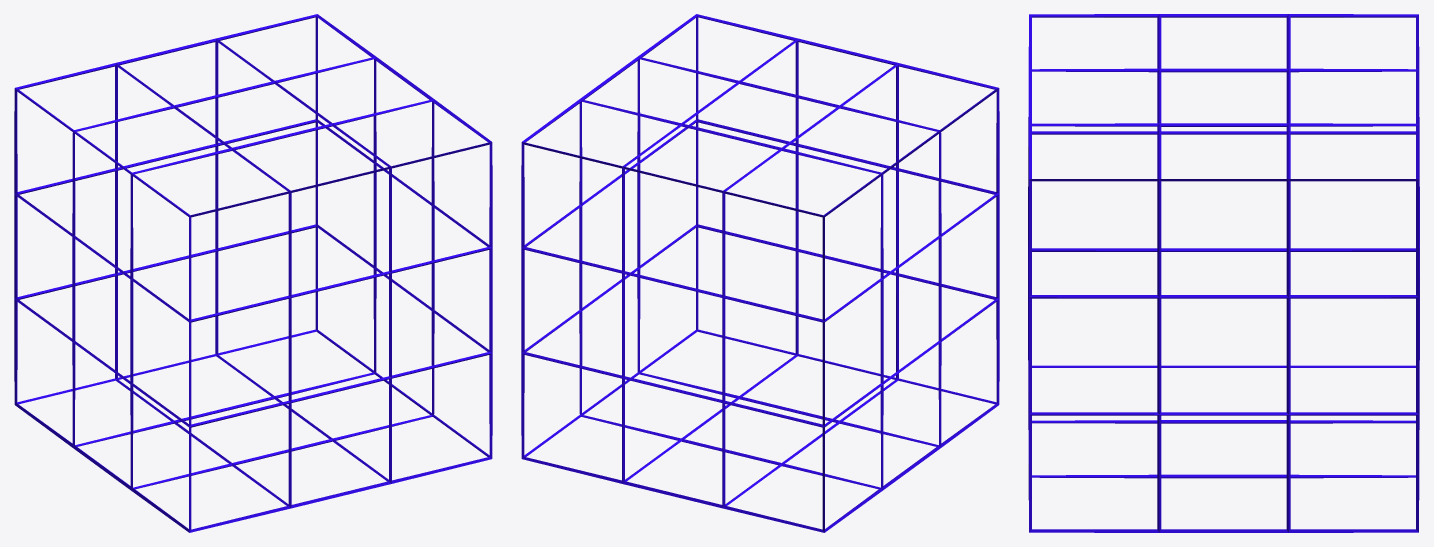
File: cube-wireframe.glb
The picture shows the model from 3 angles, left to right: view 1: azimuth 30°, elevation 25°; view 2: azimuth 150°, elevation 25°; view 3: azimuth 270°, elevation 25°; orthographic projection. The views are drawn at different scales.
Visible parts, largest first — view 1: Cube Wireframe; view 2: Cube Wireframe; view 3: Cube Wireframe.
Part boxes in pixels (bbox=[...]): Cube Wireframe: bbox=[14, 14, 492, 532]; Cube Wireframe: bbox=[521, 14, 999, 532]; Cube Wireframe: bbox=[1028, 14, 1419, 532].
Size of the model in its own units: 2.02 by 2.02 by 2.02.
